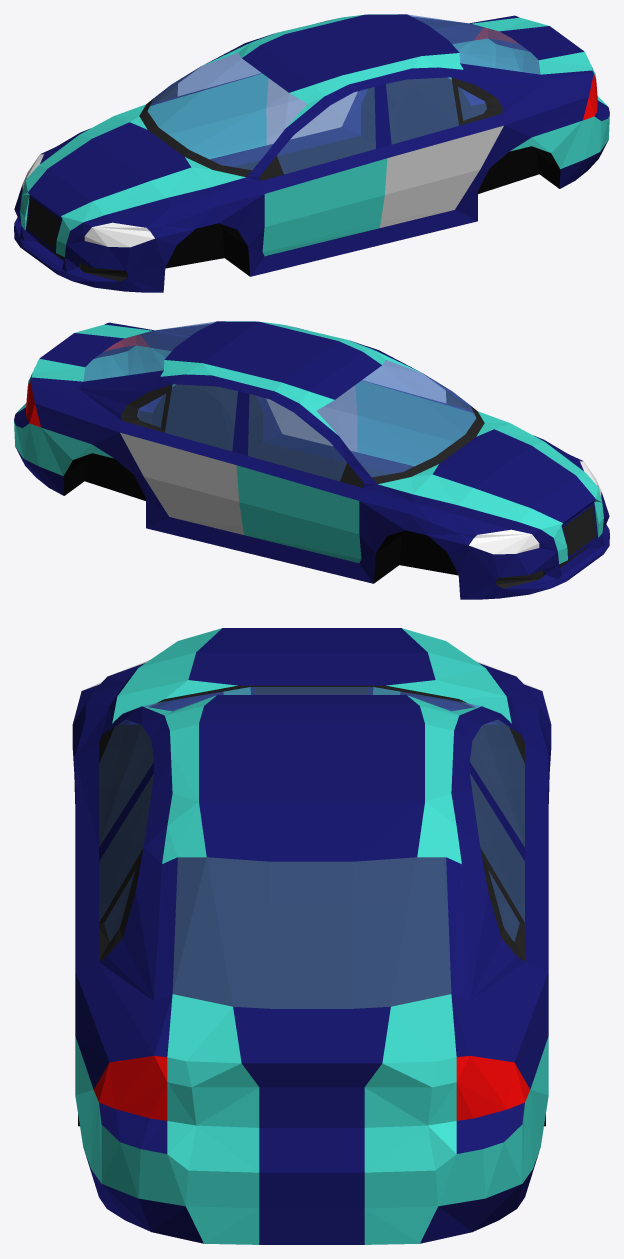
The model's file is beginner car.fbx.
The picture shows the model from 3 angles, top to bottom: view 1: azimuth 30°, elevation 25°; view 2: azimuth 150°, elevation 25°; view 3: azimuth 270°, elevation 25°; orthographic projection. The views are drawn at different scales.
Parts seen in each view (by area): view 1: _(Loose Entity); view 2: _(Loose Entity); view 3: _(Loose Entity).
Boxes of the visible parts, x1,y1,x2,y2 form: _(Loose Entity): (14, 14, 609, 292); _(Loose Entity): (14, 321, 609, 599); _(Loose Entity): (72, 628, 551, 1244).
Size of the model in its own units: 473 by 125 by 182.
